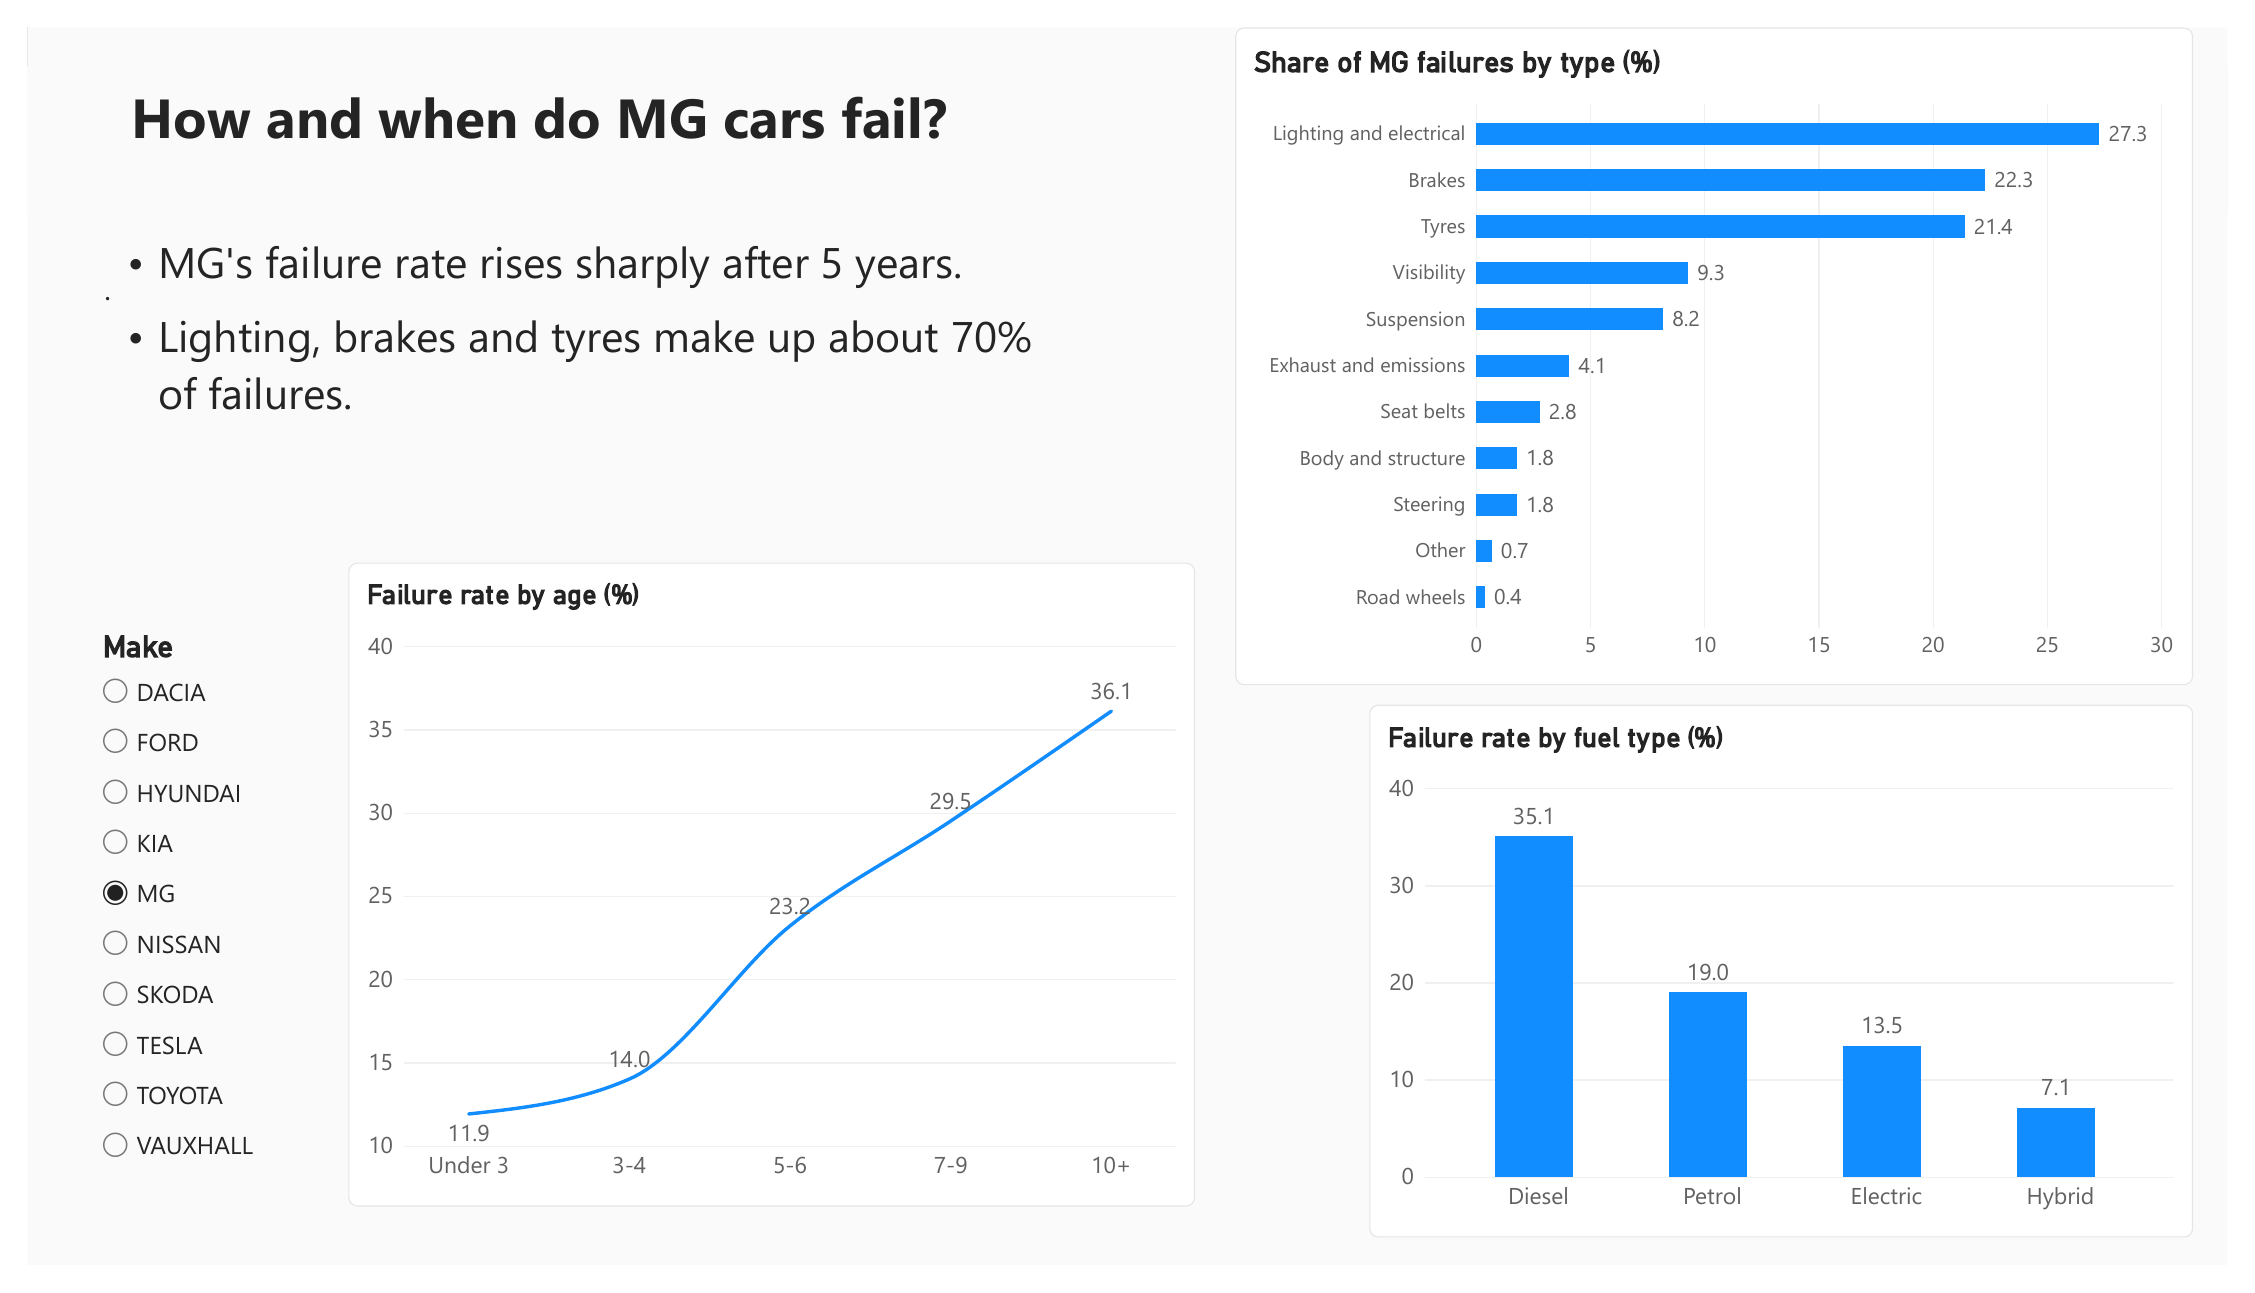

The dashboard page shown, as its layout file describes it:
{"tool":"powerbi","page":{"name":"Failure patterns","canvas":[1920,1080],"ordinal":1},"visuals":[{"type":"textbox","box":[90.6,45.3,786.3,292.3],"z":0},{"type":"slicer","fields":{"Values":["pass_rate.make"]},"box":[57.6,524.9,197.6,489.9],"z":1},{"type":"lineChart","title":"Failure rate by age (%)","fields":{"Category":["failure_by_age.age_band"],"Y":["Avg(failure_by_age.failure_rate_pct)"]},"box":[279.9,467.2,738.9,561.9],"z":2},{"type":"clusteredBarChart","title":"Share of MG failures by type (%)","fields":{"Category":["failure_categories.failure_category"],"Y":["Avg(failure_categories.share_of_make_failures_pct)"]},"box":[1053.9,0,835.7,574.3],"z":3},{"type":"clusteredColumnChart","title":"Failure rate by fuel type (%)","fields":{"Category":["fuel_failure.fuel_group"],"Y":["Avg(fuel_failure.failure_rate_pct)"]},"box":[1171.2,590.7,718.4,465.2],"z":4},{"type":"textbox","box":[57.6,179.1,823.3,218.2],"z":5}]}

Visuals, with their boxes in screenshot pixels (x1, y1, x2, y2), scaled from the page's 1920x1080 canvas onto the 2255x1293 screenshot:
textbox: l=106, t=54, r=1030, b=404
slicer - pass_rate.make: l=68, t=628, r=300, b=1215
"Failure rate by age (%)" lineChart: l=329, t=559, r=1197, b=1232
"Share of MG failures by type (%)" clusteredBarChart: l=1238, t=0, r=2219, b=688
"Failure rate by fuel type (%)" clusteredColumnChart: l=1376, t=707, r=2219, b=1264
textbox: l=68, t=214, r=1035, b=476
